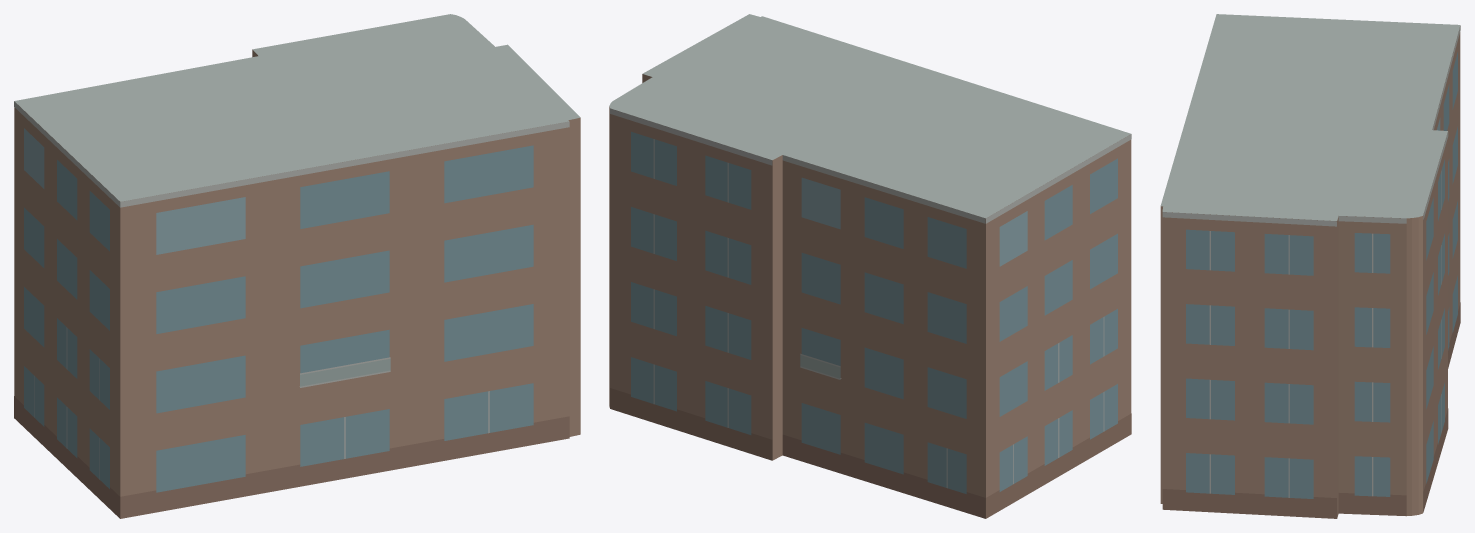
Rendered from survey-upis-33012730.glb.
3 views of the same model, side by side, from view 1: azimuth 30°, elevation 25°; view 2: azimuth 150°, elevation 25°; view 3: azimuth 270°, elevation 25° (orthographic). The views are drawn at different scales.
Parts seen in each view (by area): view 1: survey-upis-33012730.tmp; view 2: survey-upis-33012730.tmp; view 3: survey-upis-33012730.tmp.
Part boxes in pixels (x1,y1,x2,y2): survey-upis-33012730.tmp: [14, 14, 580, 518]; survey-upis-33012730.tmp: [609, 14, 1131, 518]; survey-upis-33012730.tmp: [1160, 14, 1460, 518].
Size of the model in its own units: 19.85 by 13.3 by 12.16.
